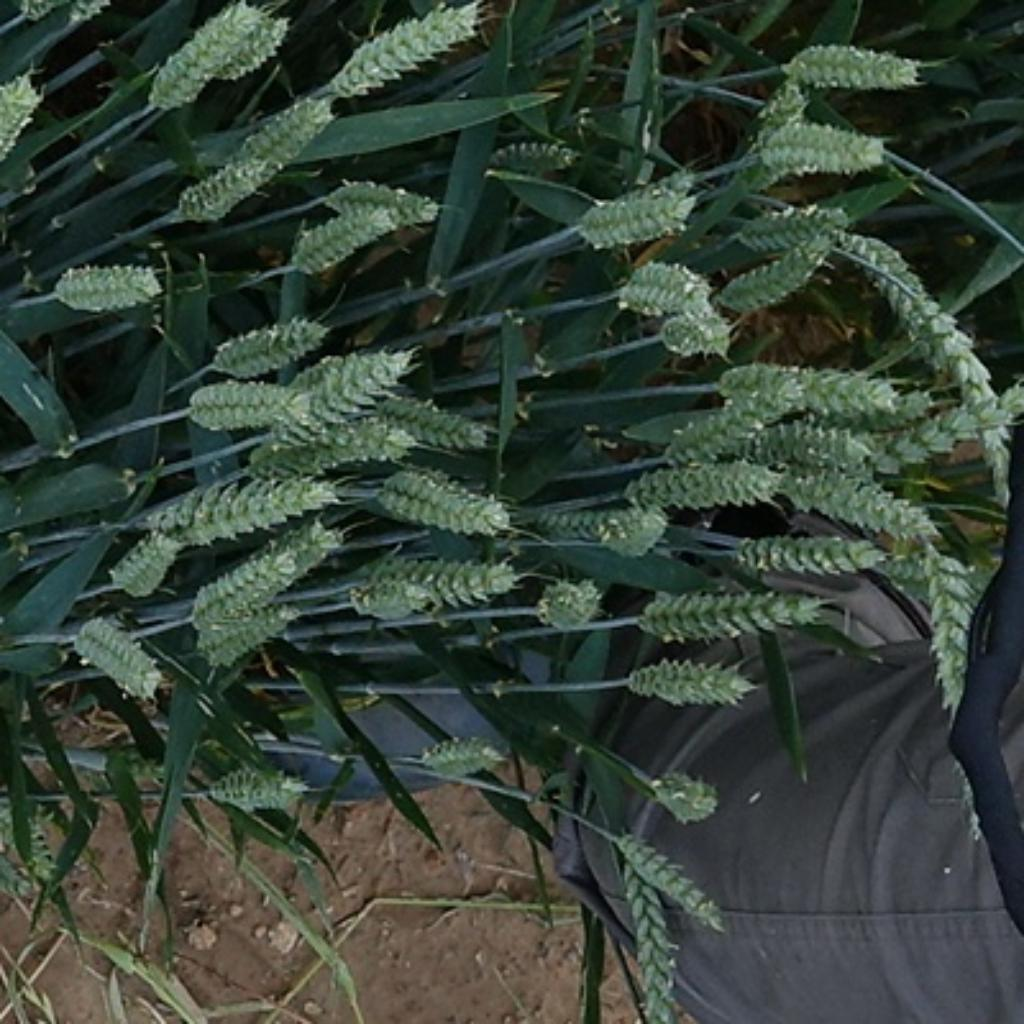0-0: (849, 230, 1021, 504), (880, 537, 1003, 698), (330, 7, 501, 112), (279, 337, 432, 442), (624, 573, 839, 645), (151, 478, 350, 552), (609, 821, 680, 1024), (875, 384, 1021, 481), (609, 821, 737, 931), (773, 465, 947, 540), (130, 12, 263, 107), (729, 107, 898, 179), (721, 353, 896, 422), (279, 207, 440, 281), (563, 171, 704, 245), (775, 30, 931, 94), (386, 463, 504, 545), (181, 138, 281, 230), (632, 455, 788, 512), (232, 519, 350, 591), (66, 606, 163, 693), (225, 92, 330, 171), (202, 555, 302, 637), (614, 652, 757, 709), (721, 240, 834, 312), (724, 529, 890, 578), (258, 430, 417, 481), (43, 250, 163, 317), (657, 394, 775, 460), (737, 197, 842, 271), (197, 752, 312, 816), (217, 320, 337, 381), (202, 606, 299, 680), (611, 253, 714, 320), (744, 84, 803, 194), (181, 384, 309, 432), (312, 33, 394, 104), (343, 565, 529, 596), (0, 784, 58, 883), (593, 499, 686, 560), (409, 724, 512, 778), (376, 404, 496, 450), (642, 760, 727, 824), (481, 125, 578, 181), (0, 66, 48, 176), (320, 179, 445, 220), (655, 307, 742, 363), (532, 570, 609, 629), (765, 430, 888, 465), (215, 17, 284, 76), (117, 524, 168, 599), (535, 506, 632, 545), (350, 586, 458, 614)
